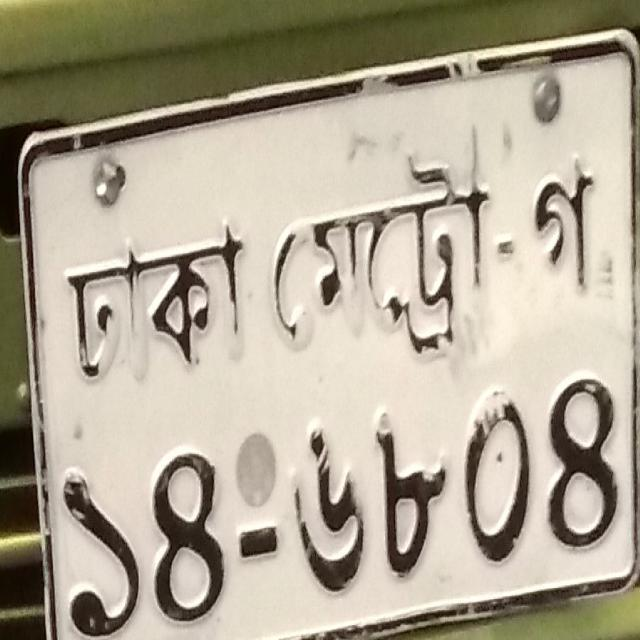numberplate: (14, 26, 637, 638)
